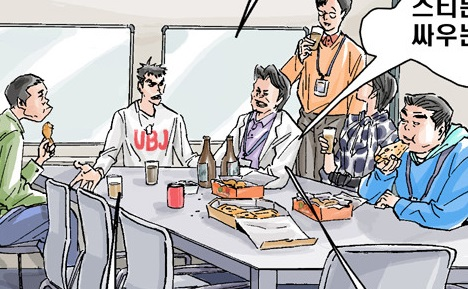beer: (195, 132, 217, 189), (217, 133, 241, 181), (316, 124, 338, 155), (105, 171, 126, 199), (142, 157, 161, 186)
bottle: (193, 132, 219, 190), (219, 132, 242, 178)
cup: (316, 123, 338, 156), (106, 172, 126, 200), (143, 159, 161, 187)
